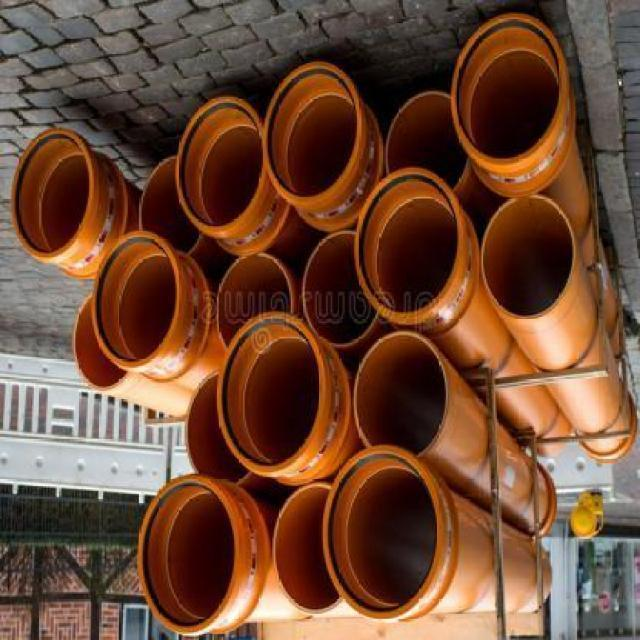pipe: (323, 446, 442, 620), (219, 312, 327, 474), (451, 12, 565, 165), (354, 168, 460, 321), (139, 476, 240, 634), (262, 62, 361, 204), (176, 94, 267, 234), (92, 231, 180, 370), (352, 331, 448, 457), (481, 194, 574, 320), (11, 128, 93, 259), (272, 483, 343, 614), (303, 231, 379, 346), (386, 91, 468, 193), (217, 254, 293, 351), (185, 371, 250, 484), (139, 155, 204, 254), (72, 293, 128, 390)
